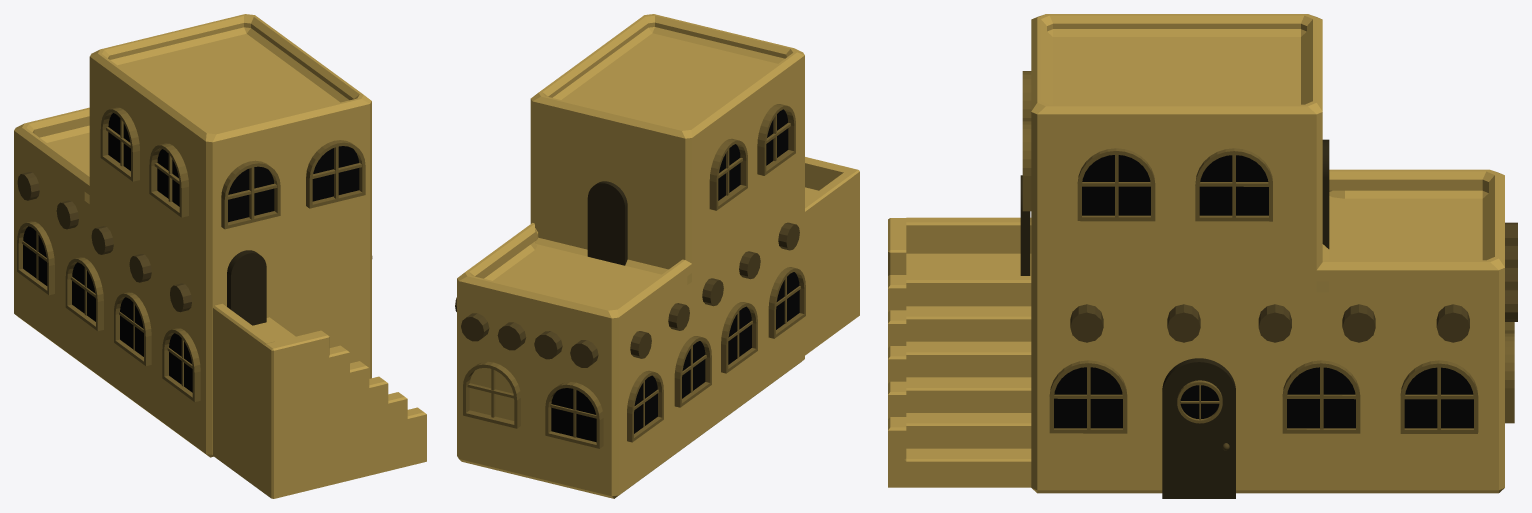
The model's file is BuyukMısırEvi.fbx.
3 renders of one model, left to right at view 1: azimuth 30°, elevation 25°; view 2: azimuth 150°, elevation 25°; view 3: azimuth 270°, elevation 25°, orthographic. The views are drawn at different scales.
Parts seen in each view (by area): view 1: Cylinder.014; view 2: Cylinder.014; view 3: Cylinder.014.
Boxes of the visible parts, box(x1,y1,x2,y2) form: Cylinder.014: box(14, 14, 426, 498); Cylinder.014: box(455, 14, 859, 498); Cylinder.014: box(888, 14, 1517, 498).
Bounding box in the file's own units: 32.02 × 52.15 × 76.93.
